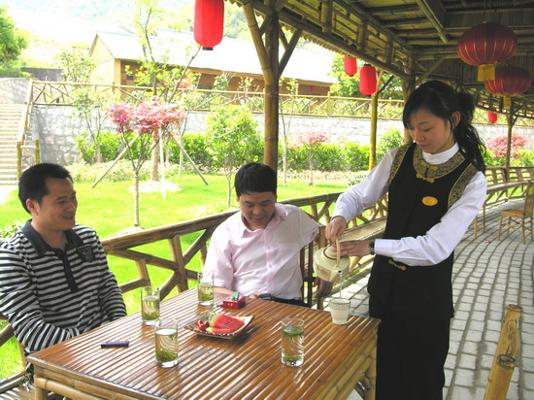person: (326, 82, 488, 400)
